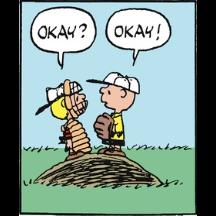charlie: (98, 71, 140, 157)
